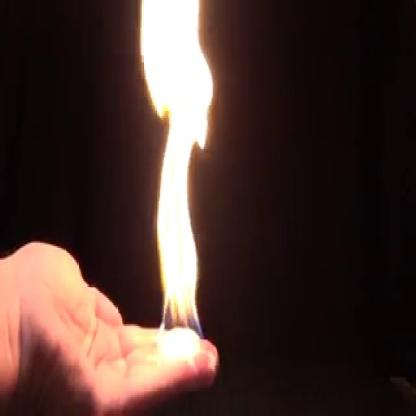fire: (132, 0, 216, 358)
